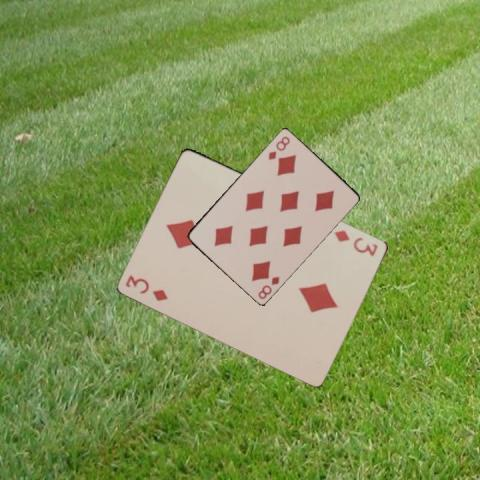3d: (331, 227, 380, 258), (123, 272, 170, 303)
8d: (266, 133, 292, 161), (254, 272, 280, 300)
